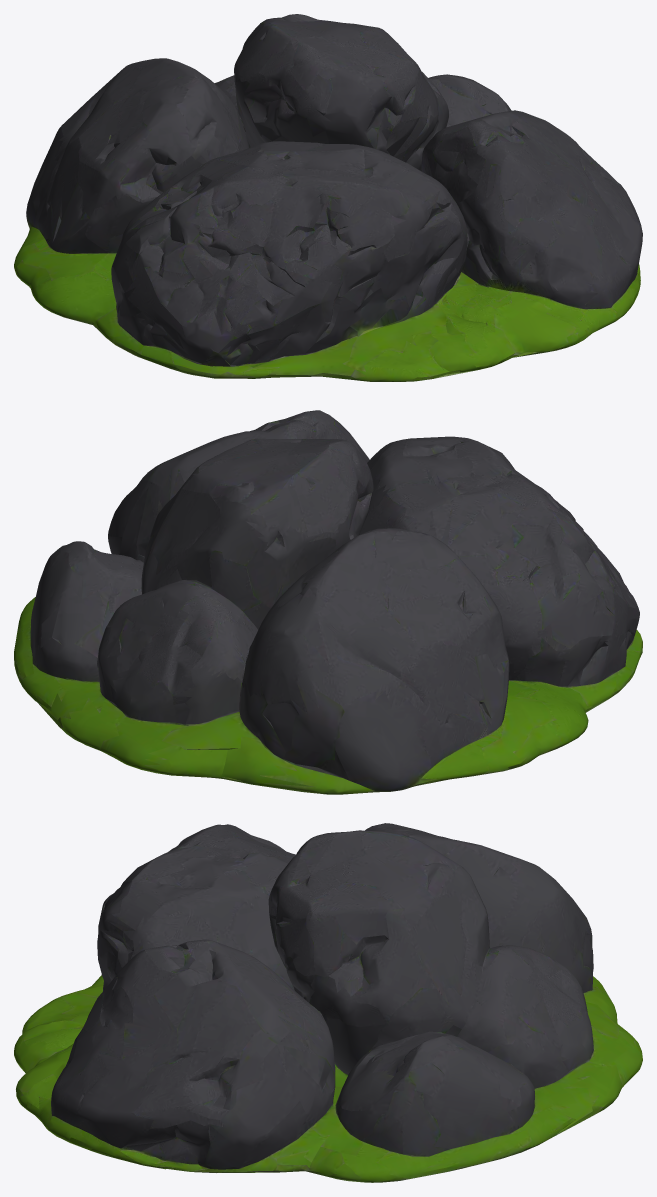
The model's file is River_Boulders_Mossy.glb.
3 renders of one model, top to bottom at view 1: azimuth 30°, elevation 25°; view 2: azimuth 150°, elevation 25°; view 3: azimuth 270°, elevation 25°, orthographic. The views are drawn at different scales.
Size of the model in its own units: 1.86 by 0.7255 by 1.9.
1 material, 1 textured.
